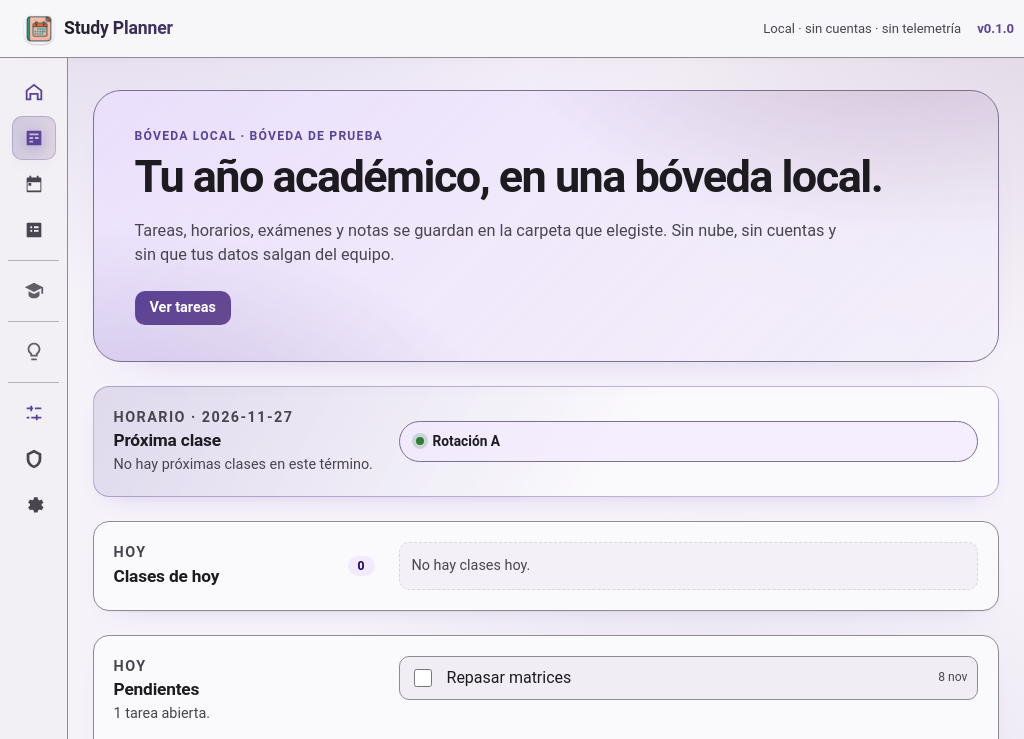
Test: App con IPC de Tauri › bloquea la importación cuando la bóveda ya tiene datos
Click the button named "Bóveda" at (34, 459), box x1=12 y1=437 x2=56 y2=481
(page scrolled)
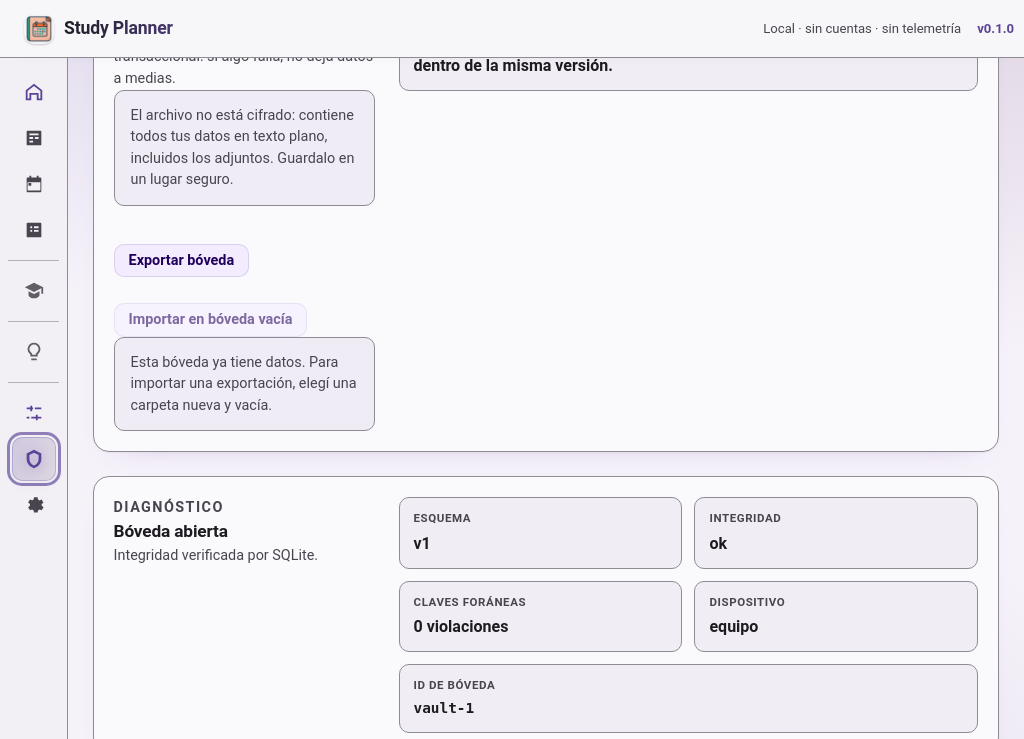
Now the button "Importar en bóveda vacía" is disabled, box x1=114 y1=303 x2=308 y2=337
Now the text "Esta bóveda ya tiene datos" is shown, box x1=131 y1=354 x2=357 y2=414
